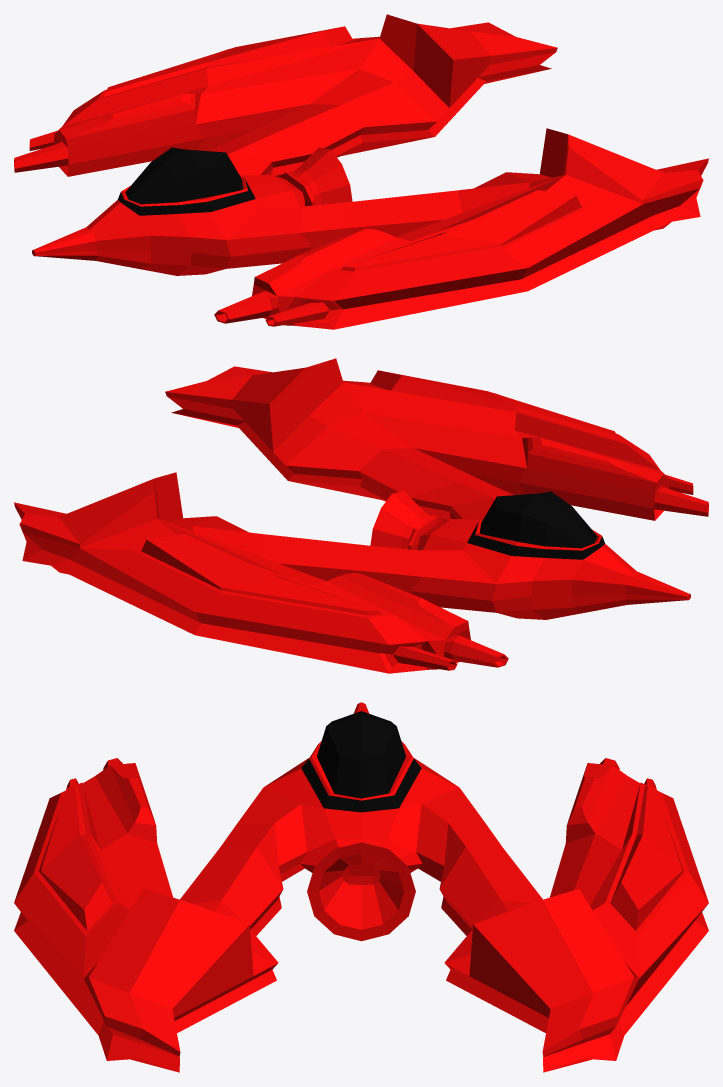
The model's file is Slalom.fbx.
3 views of the same model, one above another, from view 1: azimuth 30°, elevation 25°; view 2: azimuth 150°, elevation 25°; view 3: azimuth 270°, elevation 25° (orthographic). The views are drawn at different scales.
Parts seen in each view (by area): view 1: Cube.003; view 2: Cube.003; view 3: Cube.003.
Boxes of the visible parts, x1=… form: Cube.003: x1=14, y1=14, x2=708, y2=329; Cube.003: x1=14, y1=358, x2=708, y2=673; Cube.003: x1=14, y1=702, x2=708, y2=1072.
Bounding box in the file's own units: 108 × 20.27 × 90.59.
